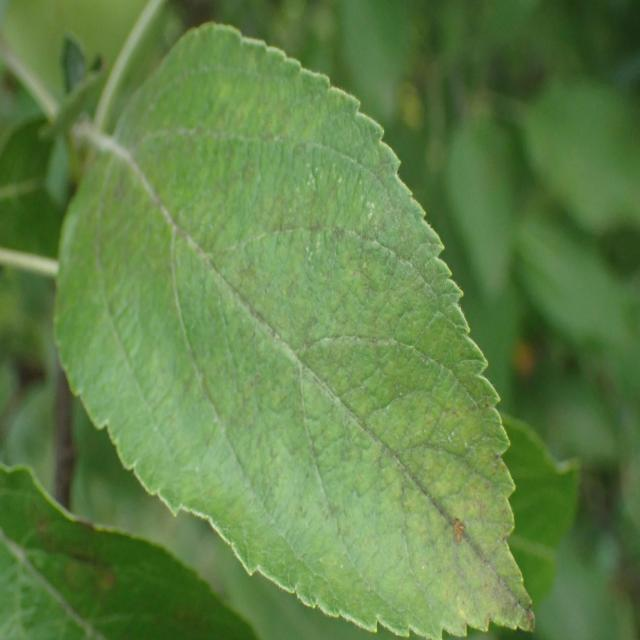scab: (105, 85, 523, 622)
